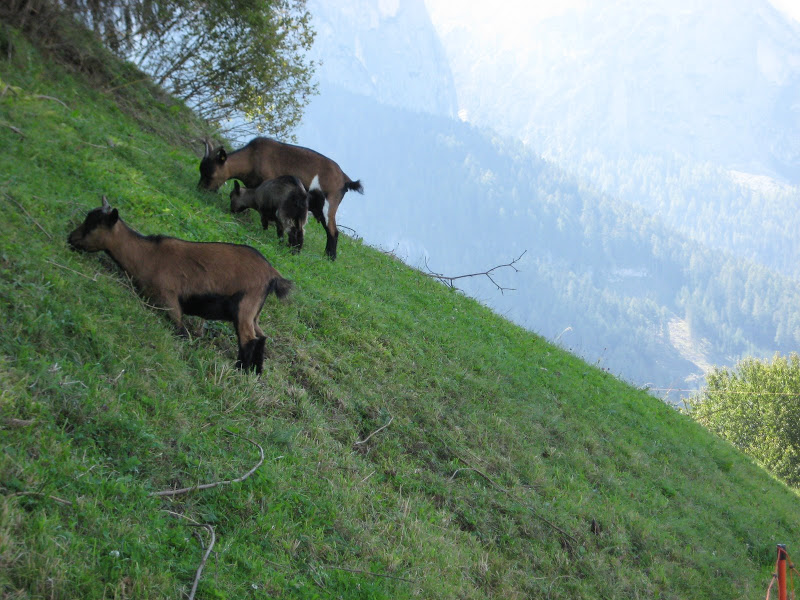goat: (66, 196, 293, 376), (197, 133, 365, 262), (231, 175, 310, 254)
